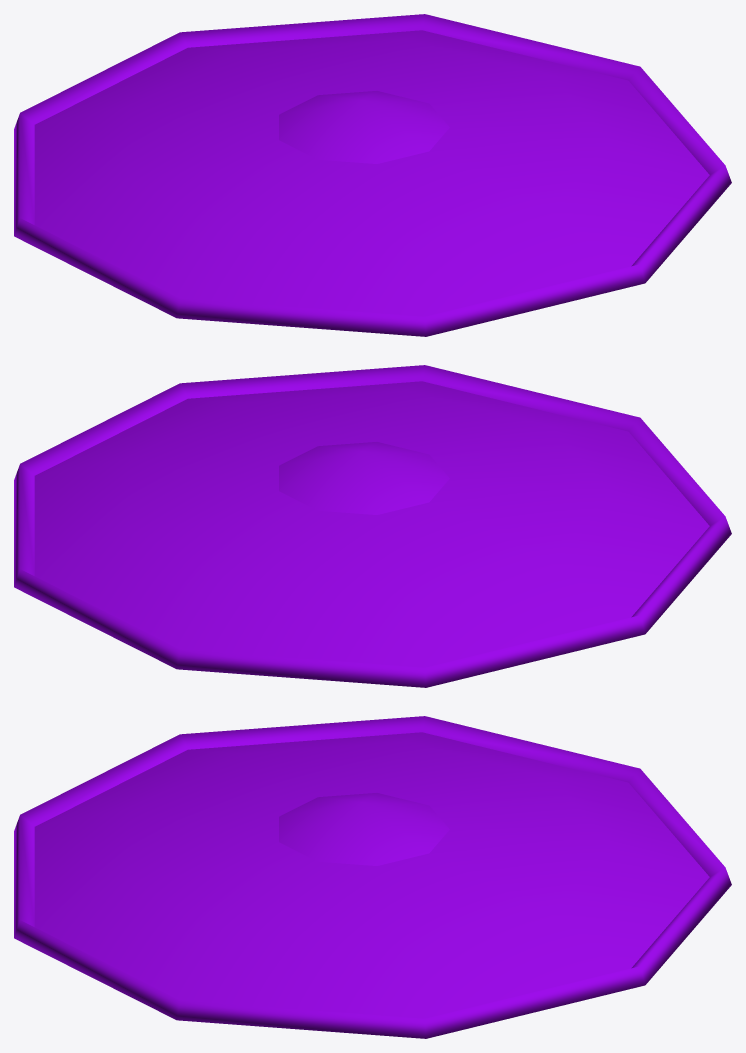
The model's file is shield_debug.glb.
The picture shows the model from 3 angles, top to bottom: view 1: azimuth 30°, elevation 25°; view 2: azimuth 150°, elevation 25°; view 3: azimuth 270°, elevation 25°; orthographic projection.
Visible parts, largest first — view 1: prop_shield_med.001; view 2: prop_shield_med.001; view 3: prop_shield_med.001.
Boxes of the visible parts, left/top/right/bottom form: prop_shield_med.001: left=14, top=14, right=731, bottom=336; prop_shield_med.001: left=14, top=365, right=731, bottom=687; prop_shield_med.001: left=14, top=716, right=731, bottom=1038.
Size of the model in its own units: 0.7846 by 0.2006 by 0.7726.
